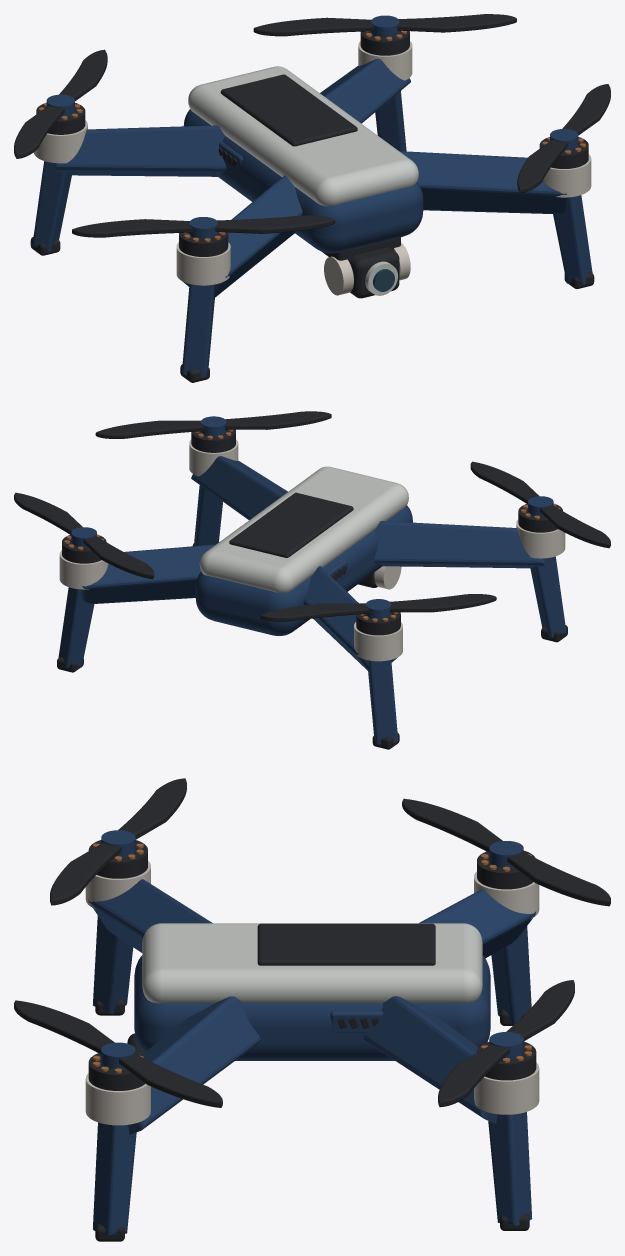
Rendered from robots-24.glb.
3 renders of one model, top to bottom at view 1: azimuth 30°, elevation 25°; view 2: azimuth 150°, elevation 25°; view 3: azimuth 270°, elevation 25°, orthographic. The views are drawn at different scales.
Visible parts, largest first — view 1: arms, shell, props, feet, motors, top, camera, gimbal; view 2: arms, shell, props, feet, motors, top, gimbal; view 3: shell, arms, props, feet, motors, top, vents.
Boxes of the visible parts, x1,y1,x2,y2 form: arms: [54, 58, 568, 297]; shell: [183, 66, 423, 253]; props: [14, 14, 610, 239]; feet: [30, 91, 594, 382]; motors: [33, 30, 591, 285]; top: [220, 74, 357, 146]; camera: [349, 247, 399, 298]; gimbal: [322, 237, 410, 295]; arms: [81, 456, 544, 671]; shell: [195, 466, 412, 635]; props: [14, 411, 610, 621]; feet: [57, 485, 567, 749]; motors: [59, 429, 565, 661]; top: [229, 492, 353, 557]; gimbal: [374, 566, 401, 589]; shell: [134, 923, 490, 1060]; arms: [88, 879, 536, 1134]; props: [14, 778, 610, 1107]; feet: [93, 915, 532, 1241]; motors: [85, 840, 539, 1125]; top: [257, 923, 435, 965]; vents: [330, 1011, 382, 1032].
Size of the model in its own units: 3.37 by 0.8825 by 2.61.
